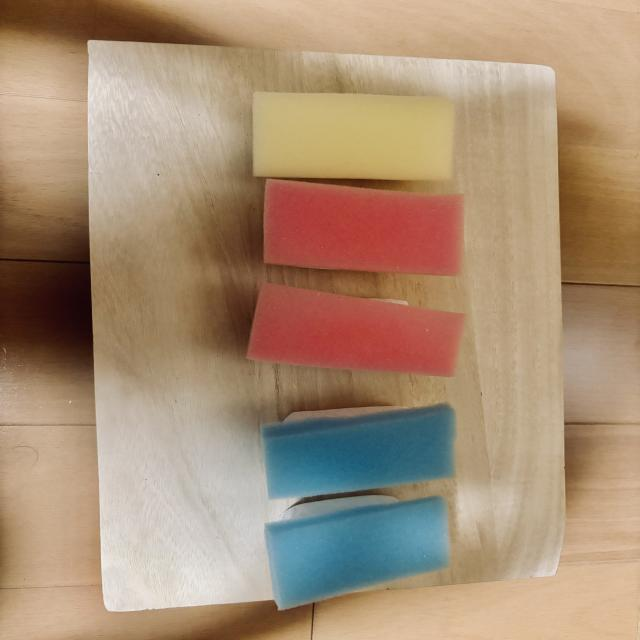ika: (264, 495, 450, 610), (261, 404, 456, 499)
tai: (246, 283, 465, 377), (263, 179, 464, 276)
tamago: (253, 92, 455, 180)
